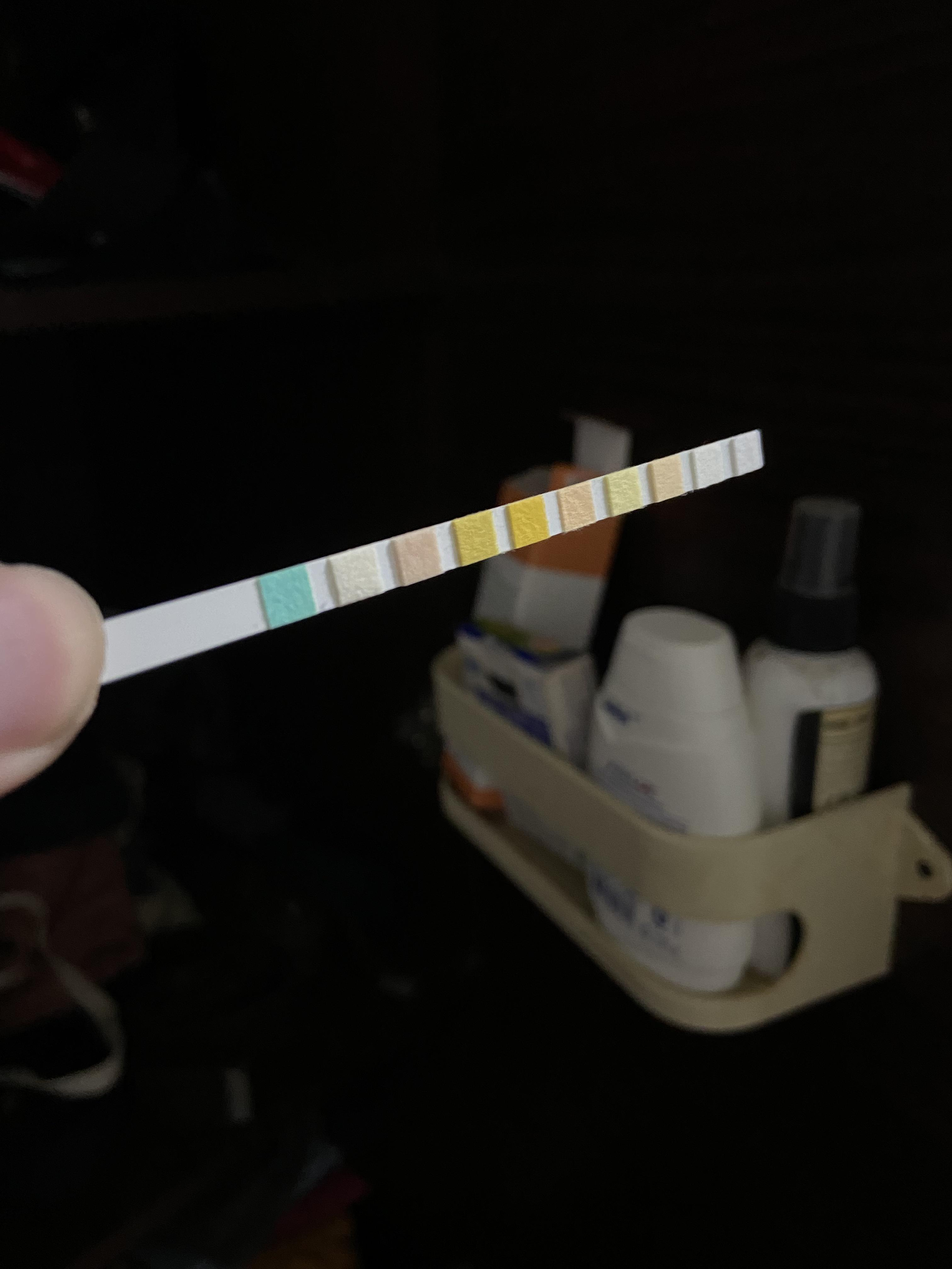Bilirubin: (342, 554, 375, 596)
Blood: (516, 502, 544, 541)
Glucose: (270, 575, 308, 618)
Ketone: (405, 536, 435, 577)
Leukocytes: (736, 437, 758, 469)
Nitrite: (695, 449, 721, 482)
Protein: (612, 474, 638, 510)
SpGravity: (461, 519, 492, 558)
Urobilinogen: (655, 461, 680, 495)
pH: (567, 487, 590, 525)
strip: (106, 430, 766, 679)
